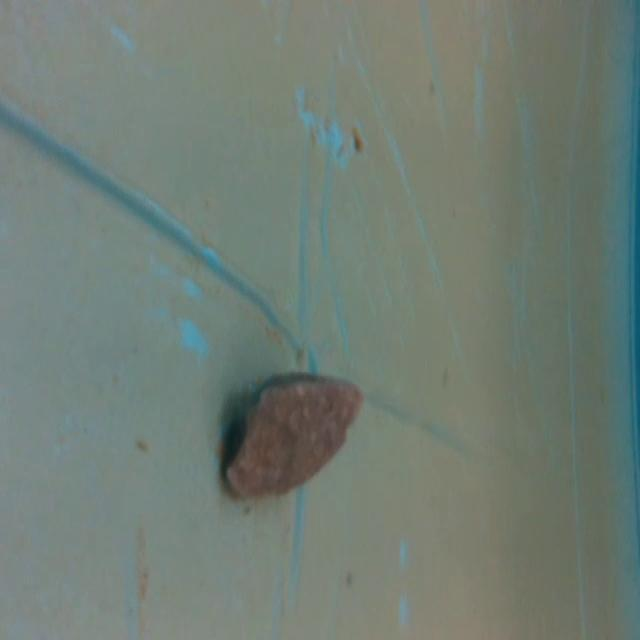rock: (220, 364, 374, 514)
